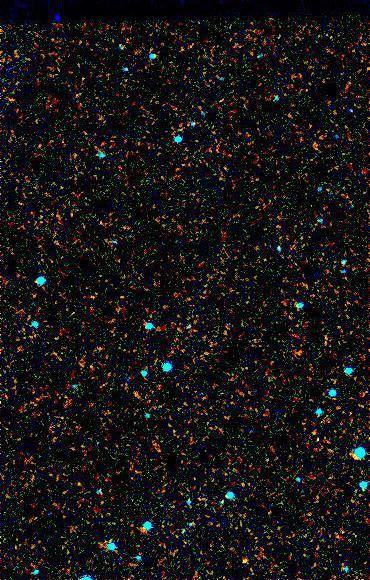star: (228, 546, 258, 576)
